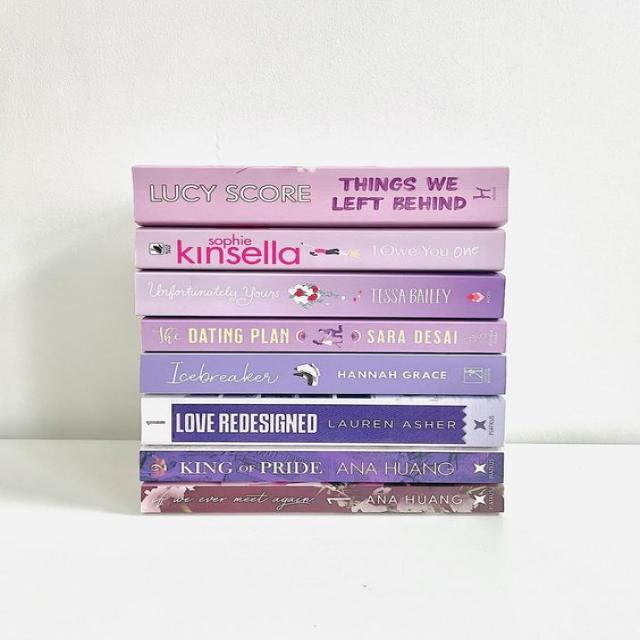book: (132, 167, 507, 221), (141, 398, 504, 446), (134, 274, 506, 318), (139, 355, 505, 394), (136, 232, 504, 269), (142, 321, 505, 353), (141, 452, 504, 482), (140, 486, 503, 511)
